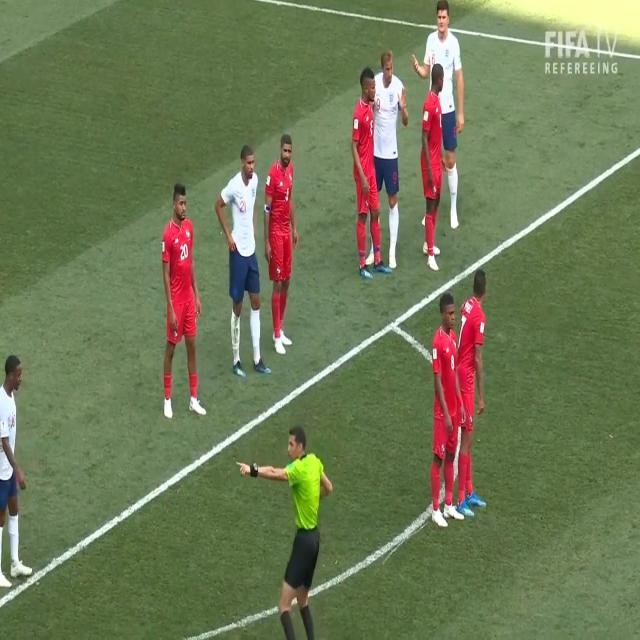player: (216, 143, 266, 381), (160, 178, 208, 423), (429, 290, 464, 530), (1, 353, 34, 601), (270, 131, 300, 355), (378, 47, 408, 267), (464, 265, 489, 522), (350, 64, 379, 285), (441, 4, 465, 233), (418, 64, 444, 273)
